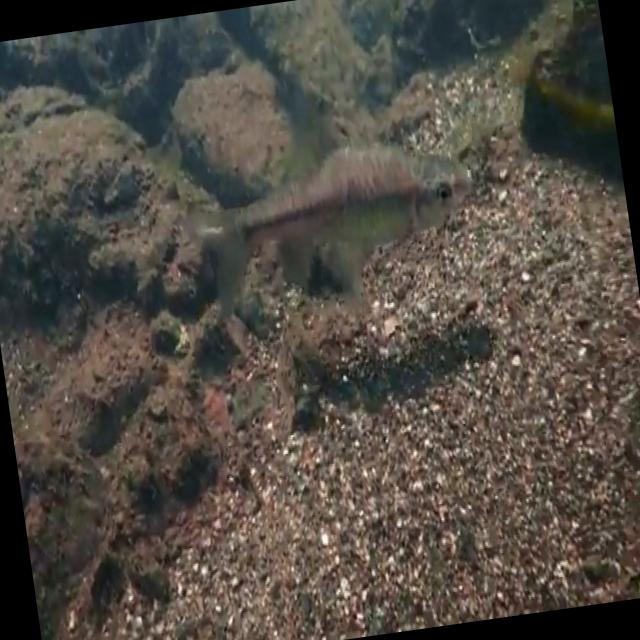Cakil Baligi: (176, 120, 494, 321)
